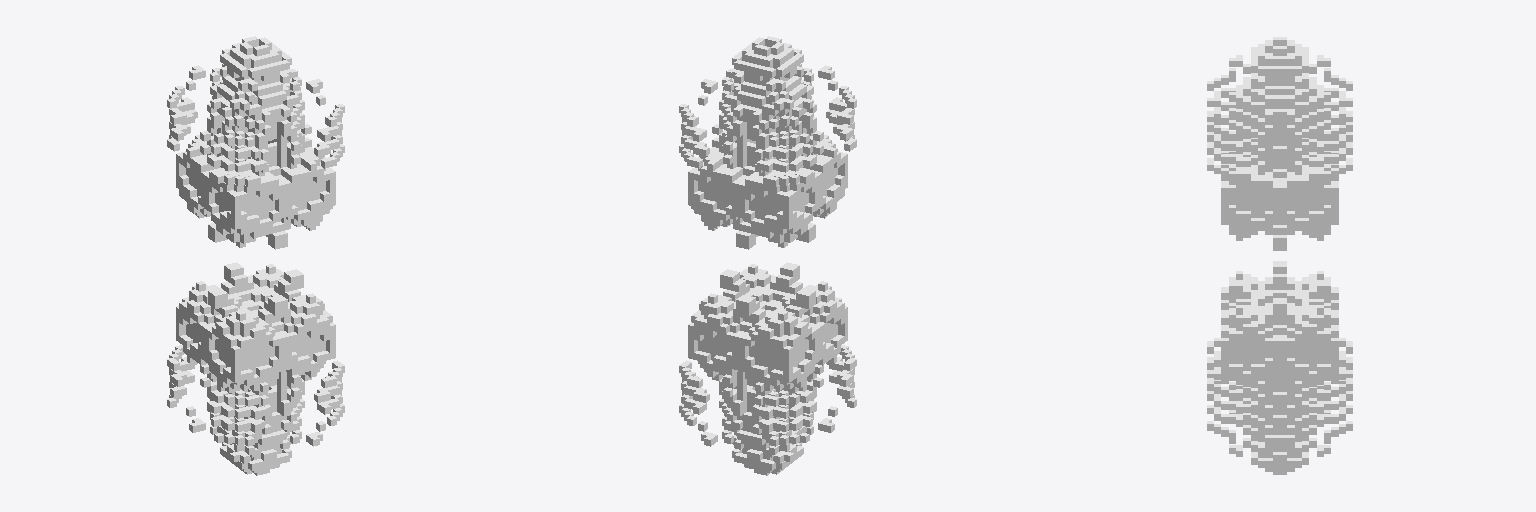
Rendered from mon-3-Boss.obj.
3 views of the same model, side by side, from view 1: azimuth 30°, elevation 25°; view 2: azimuth 150°, elevation 25°; view 3: azimuth 270°, elevation 25° (orthographic).
Parts seen in each view (by area): view 1: Boss; view 2: Boss; view 3: Boss.
Part boxes in pixels (x1,y1,x2,y2): Boss: (167,36,344,475); Boss: (679,36,856,475); Boss: (1207,37,1352,474).
Size of the model in its own units: 2 by 6.4 by 2.